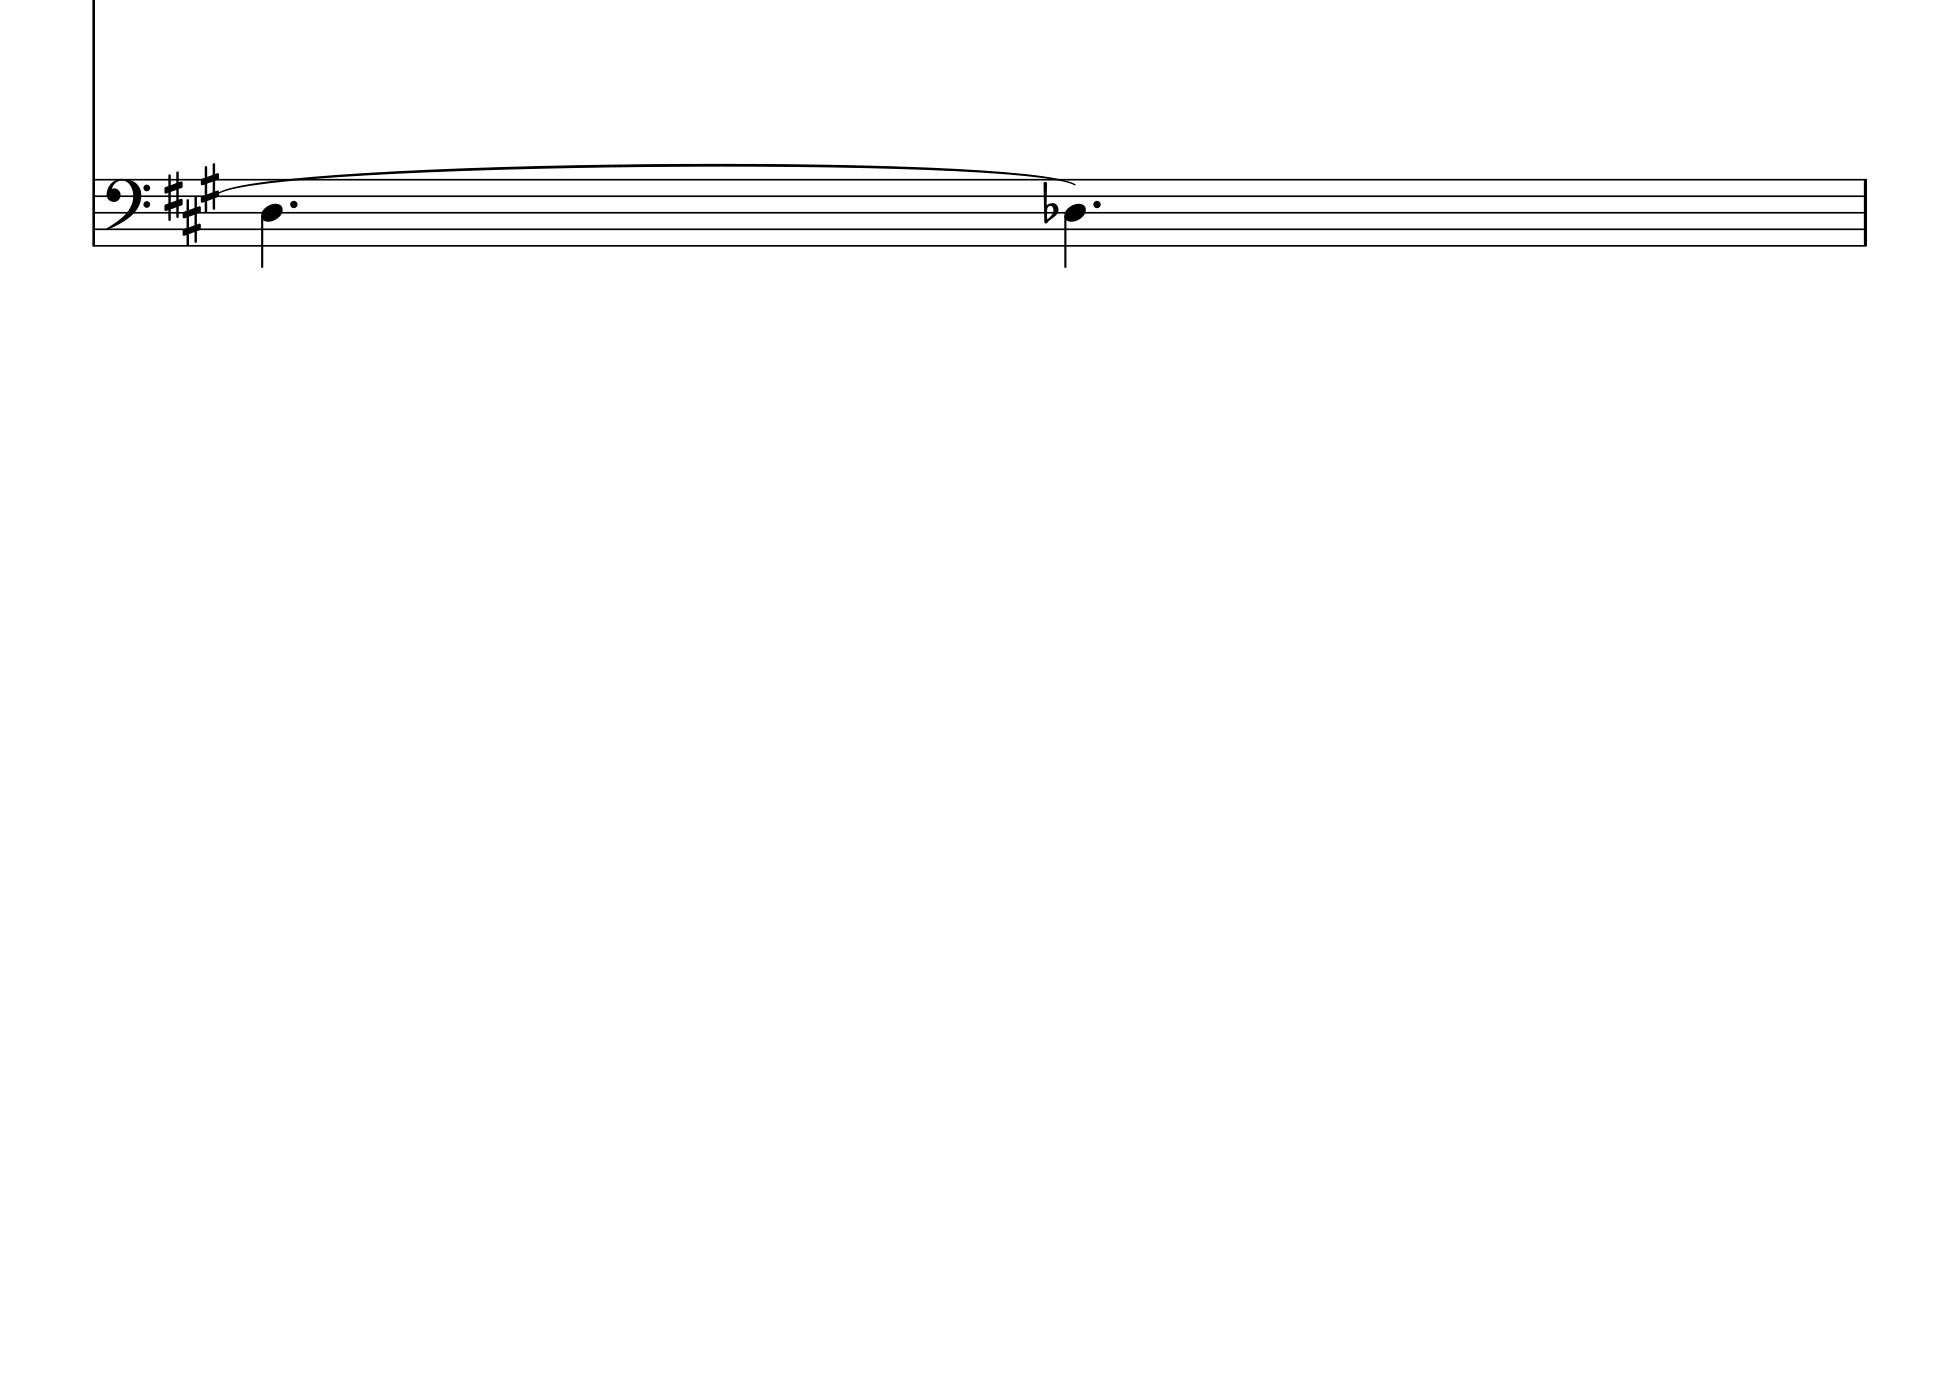4_4: (259, 177, 283, 270), (1063, 178, 1086, 268)
A_S: (160, 162, 220, 247)
Fclef: (105, 177, 150, 247)
Flat: (1041, 178, 1059, 223)
Single_barline: (1857, 178, 1873, 246), (87, 178, 100, 246)
dot: (286, 196, 300, 211), (1090, 196, 1104, 211)
